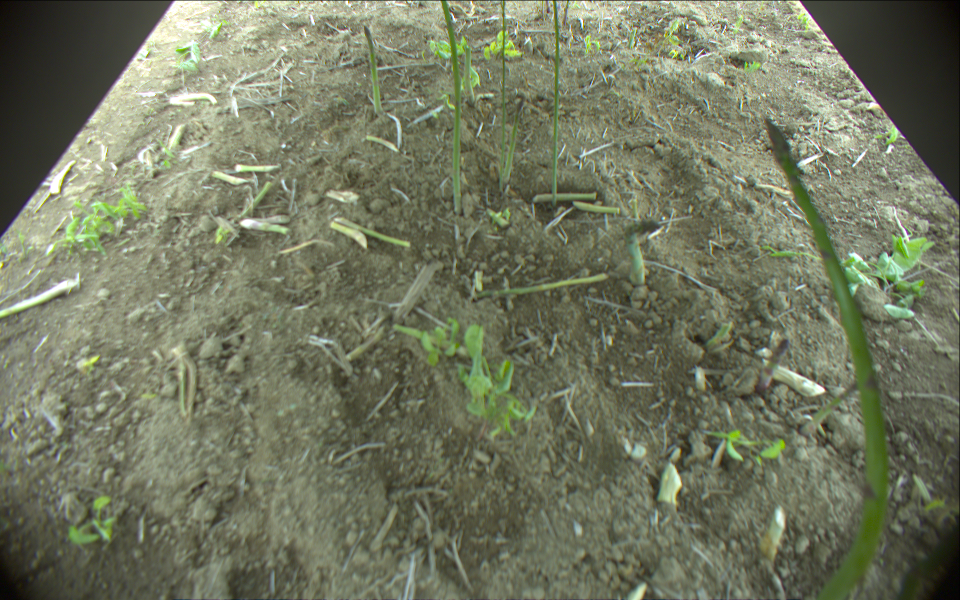aspa: (765, 118, 894, 600), (434, 1, 465, 214), (471, 274, 607, 305), (1, 278, 79, 321), (496, 1, 511, 193), (336, 215, 414, 248), (548, 1, 560, 205), (505, 100, 528, 195), (365, 27, 384, 114), (239, 178, 272, 220), (627, 234, 648, 289), (529, 189, 599, 203), (331, 223, 366, 250), (462, 43, 473, 109), (572, 200, 620, 214), (242, 222, 293, 234), (234, 162, 281, 172), (562, 1, 571, 29), (211, 171, 233, 182), (628, 29, 635, 51)
